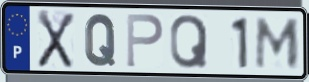1: (229, 16, 252, 71)
M: (253, 16, 302, 71)
P: (125, 12, 166, 70)
Q: (168, 13, 210, 71), (83, 12, 118, 68)
X: (36, 8, 77, 70)
